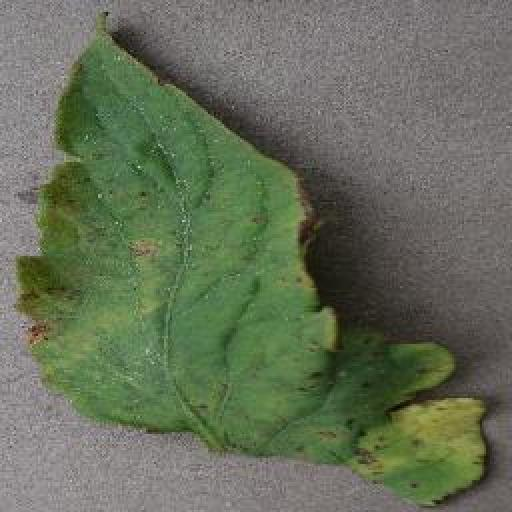Bacterial Spot: (16, 5, 493, 511)
